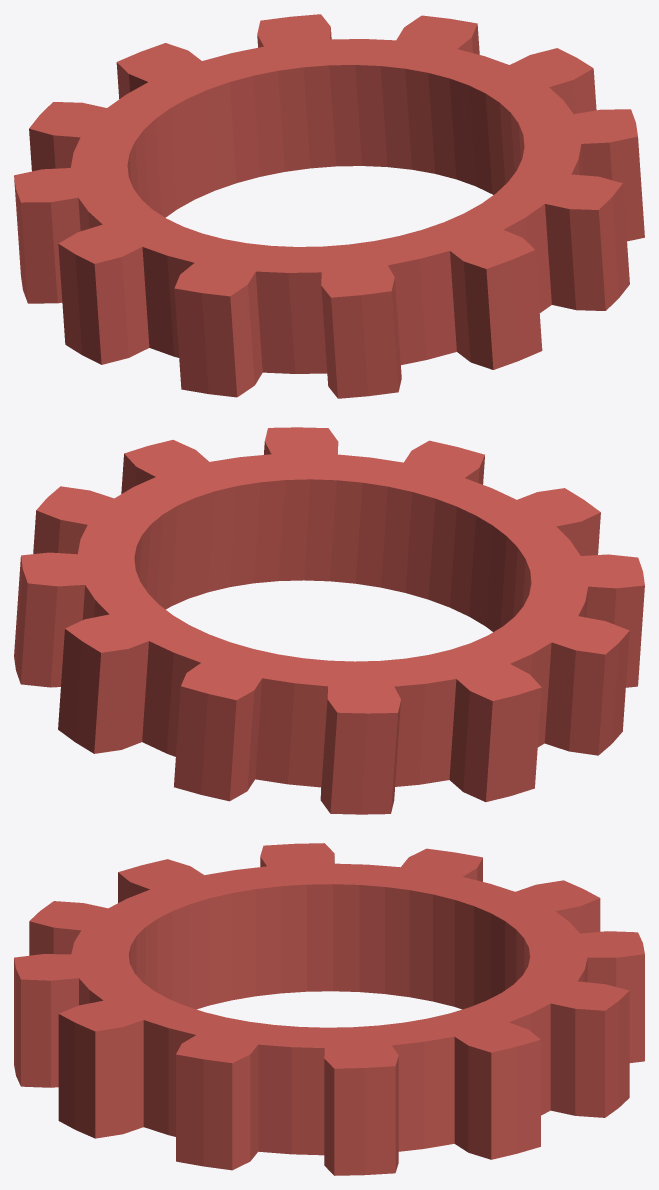
3 renders of one model, top to bottom at view 1: azimuth 30°, elevation 25°; view 2: azimuth 150°, elevation 25°; view 3: azimuth 270°, elevation 25°, orthographic.
Parts seen in each view (by area): view 1: Gear.001; view 2: Gear.001; view 3: Gear.001.
Boxes of the visible parts, bbox=[...] form: Gear.001: bbox=[14, 14, 644, 398]; Gear.001: bbox=[14, 427, 644, 814]; Gear.001: bbox=[14, 843, 644, 1175].
Bounding box in the file's own units: 2.22 × 0.5546 × 2.2.
